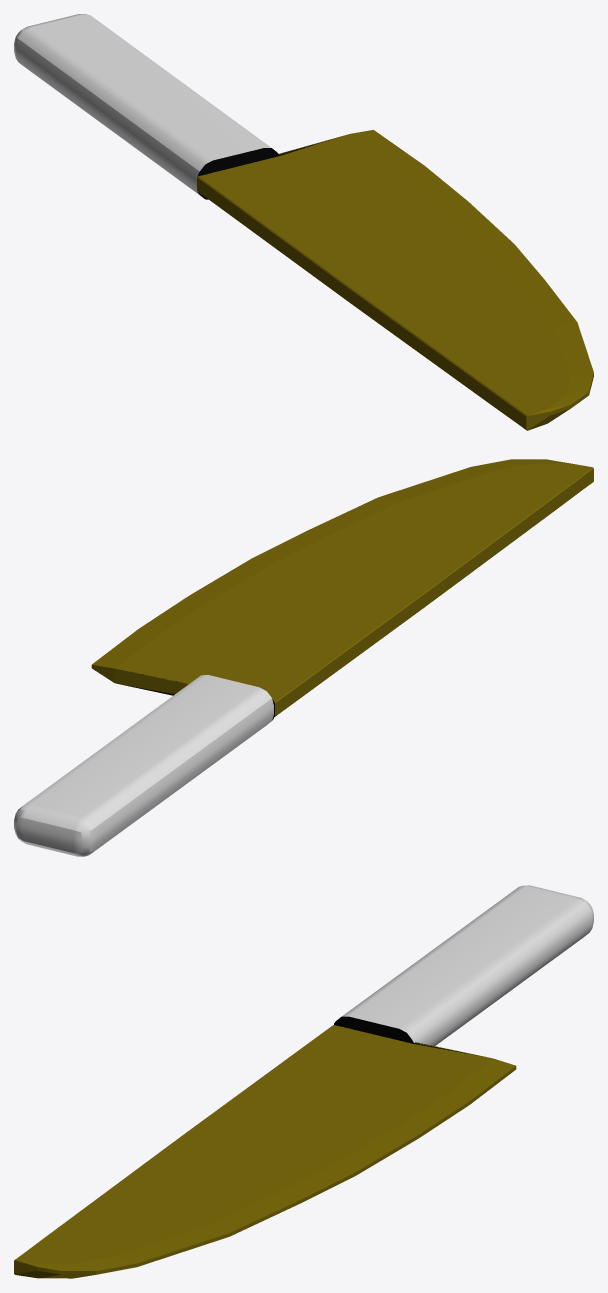
File: knife.fbx
The picture shows the model from 3 angles, top to bottom: view 1: azimuth 30°, elevation 25°; view 2: azimuth 150°, elevation 25°; view 3: azimuth 330°, elevation 25°; orthographic projection. The views are drawn at different scales.
Parts seen in each view (by area): view 1: Kitchen_Tool_Knife:pCube1; view 2: Kitchen_Tool_Knife:pCube1; view 3: Kitchen_Tool_Knife:pCube1.
Boxes of the visible parts, left/top/right/bottom form: Kitchen_Tool_Knife:pCube1: left=14, top=14, right=593, bottom=430; Kitchen_Tool_Knife:pCube1: left=14, top=459, right=593, bottom=856; Kitchen_Tool_Knife:pCube1: left=14, top=885, right=593, bottom=1278.
Bounding box in the file's own units: 1.91 × 0.3909 × 9.36.
